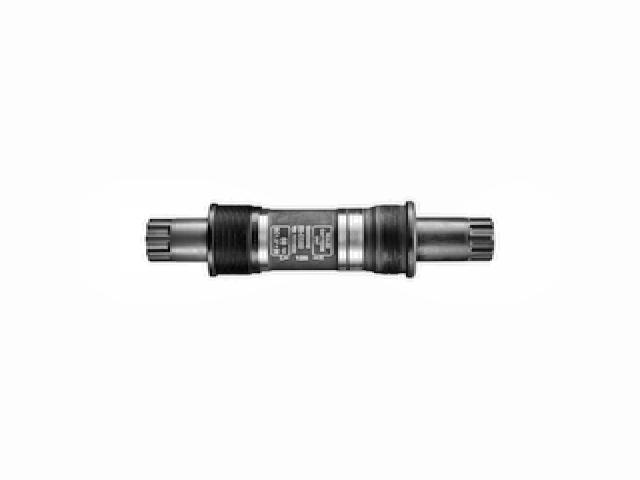bottom_bracket: (141, 199, 498, 279)
